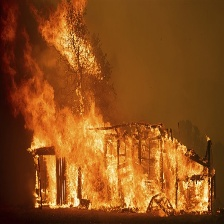fire: (2, 35, 215, 220), (33, 1, 116, 77)
